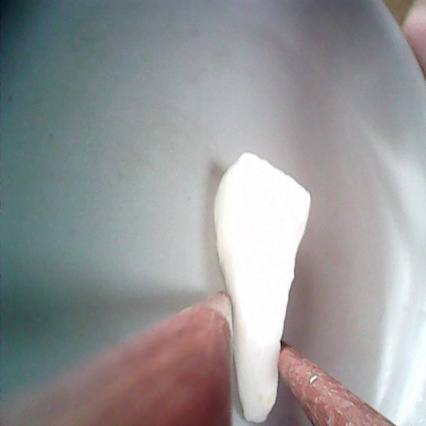white_chinese-yam: (210, 150, 312, 426)
